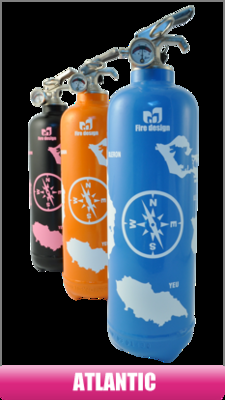fire_extinguisher: (105, 5, 199, 363), (59, 59, 118, 301), (27, 67, 76, 273)
